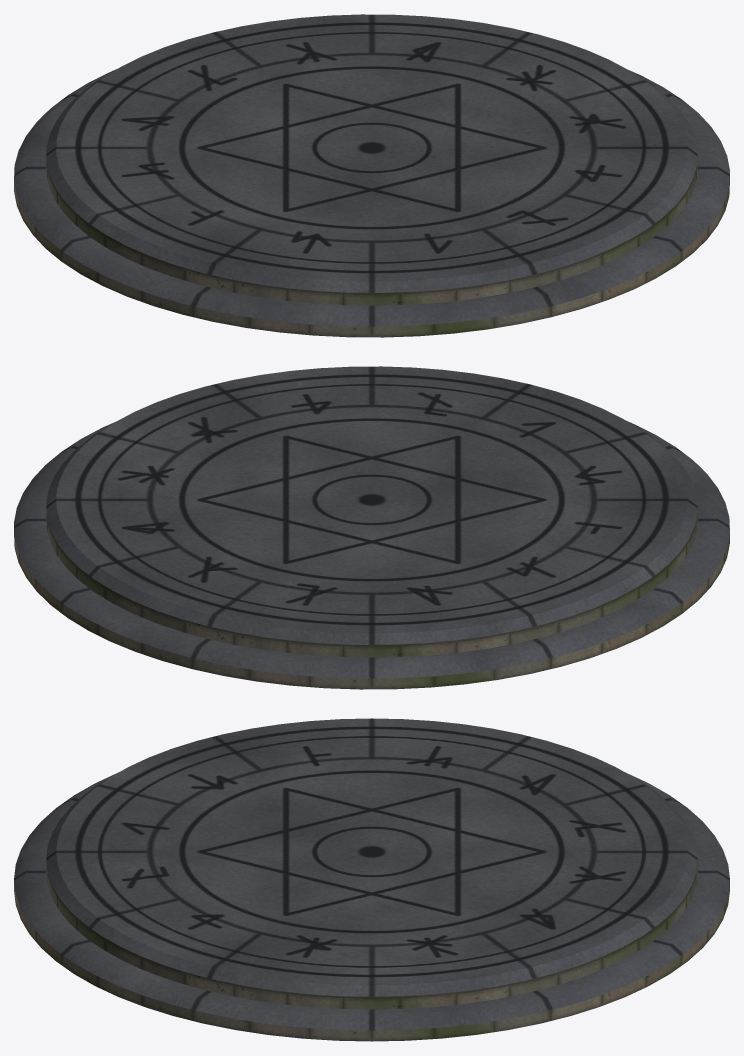
File: jump_pad.glb
The picture shows the model from 3 angles, top to bottom: view 1: azimuth 30°, elevation 25°; view 2: azimuth 150°, elevation 25°; view 3: azimuth 270°, elevation 25°; orthographic projection.
Parts seen in each view (by area): view 1: jump_pad; view 2: jump_pad; view 3: jump_pad.
Part boxes in pixels (<box>): jump_pad: <box>14,14,729,337</box>; jump_pad: <box>14,366,729,689</box>; jump_pad: <box>14,718,729,1041</box>.
Size of the model in its own units: 3.56 by 0.21 by 3.56.
Materials: 2 (2 with a texture image).
